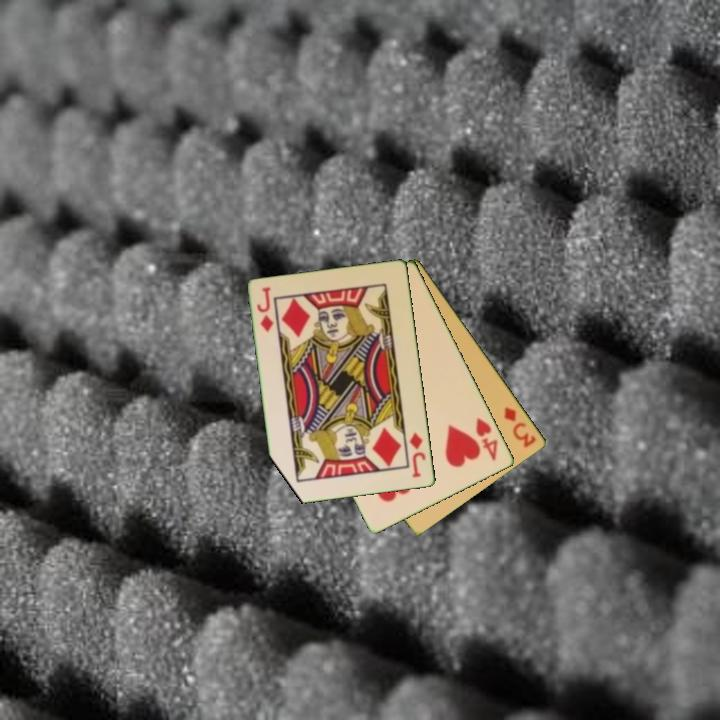3d: (501, 404, 539, 451)
4h: (472, 414, 501, 464)
Jd: (406, 429, 429, 481), (254, 284, 277, 336)
